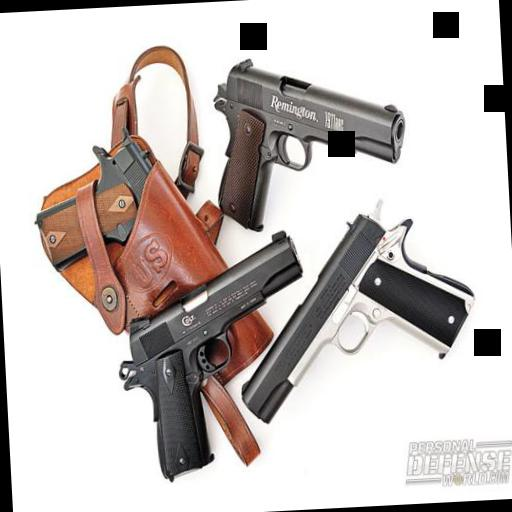Handgun: (229, 183, 495, 431), (108, 218, 314, 478), (190, 31, 416, 231)
